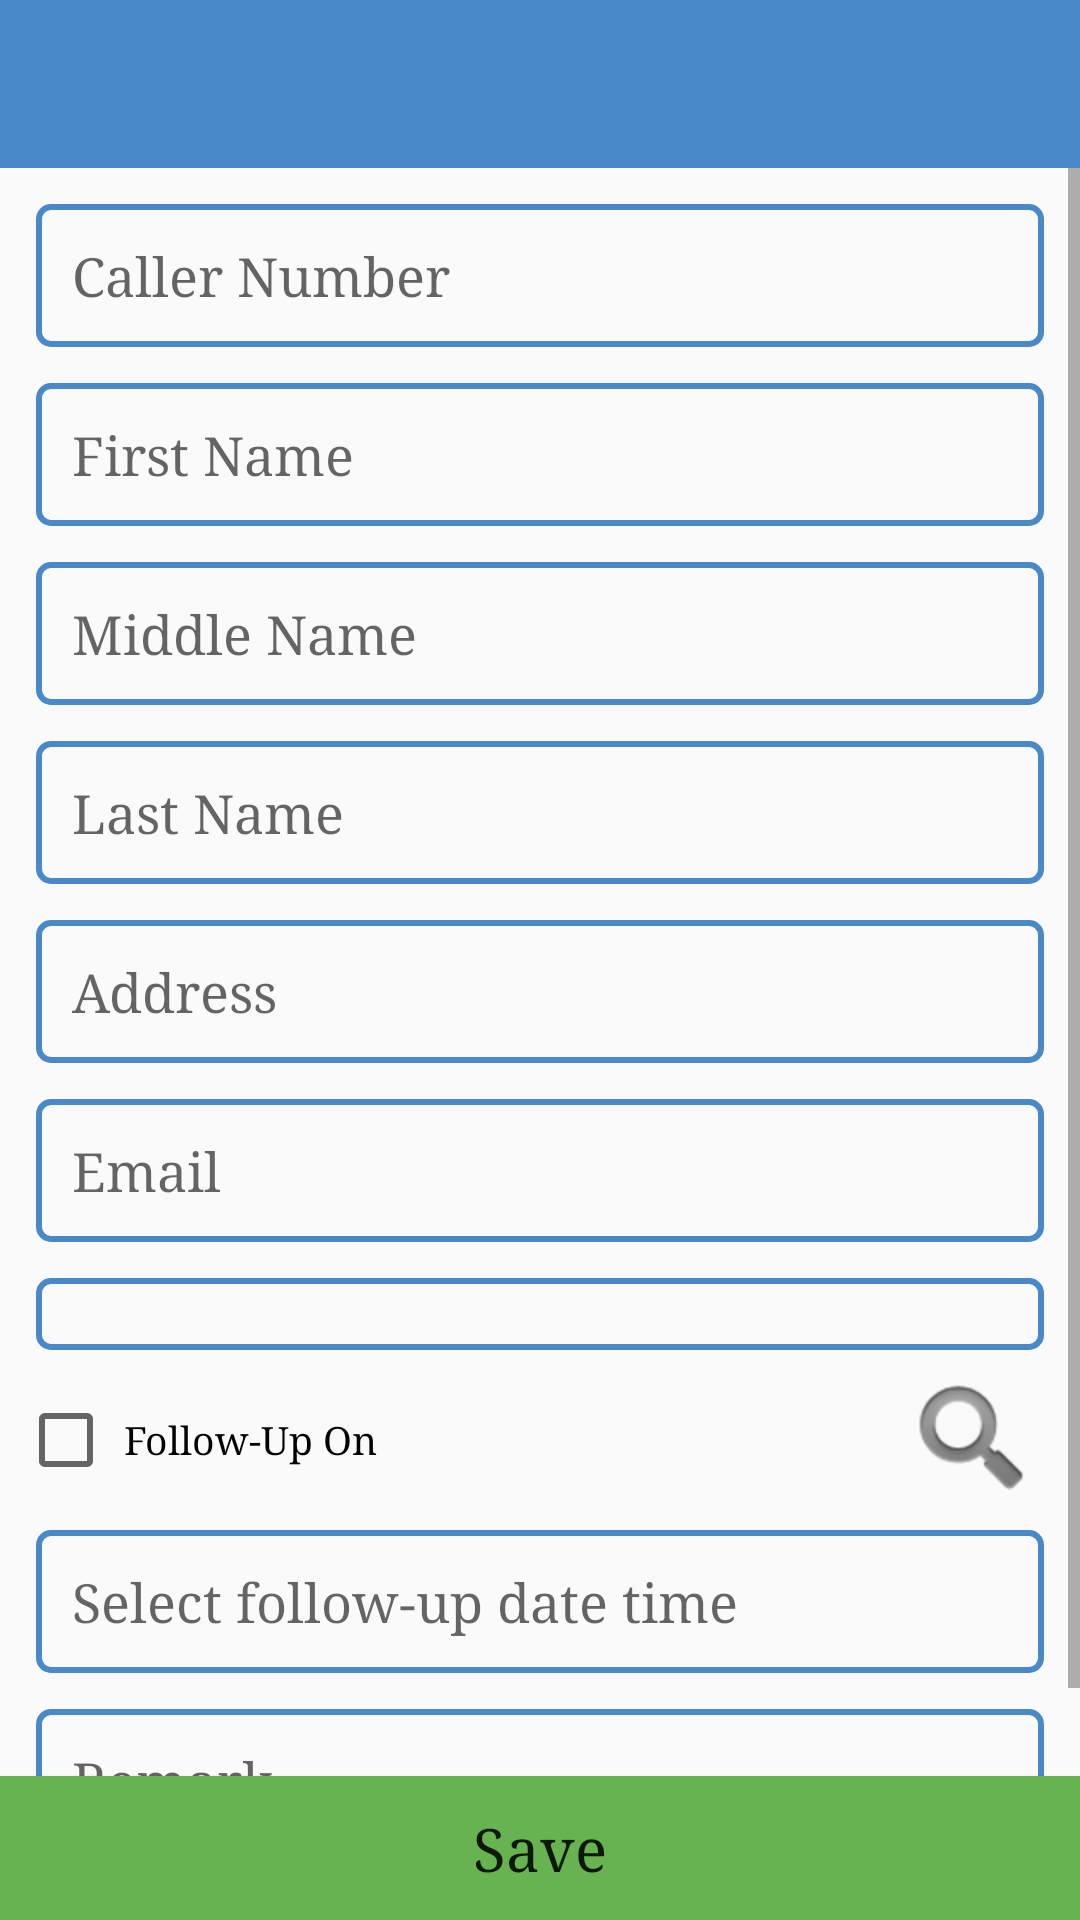

Icons on this 1080px×1920px Android screen, each with its box as [x1=x1, y1=y1, x2=x2, y2=y2]:
search category: [x1=919, y1=1385, x2=1023, y2=1489]
